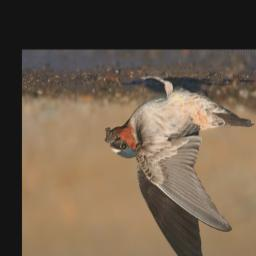Swallow: (104, 74, 255, 256)
